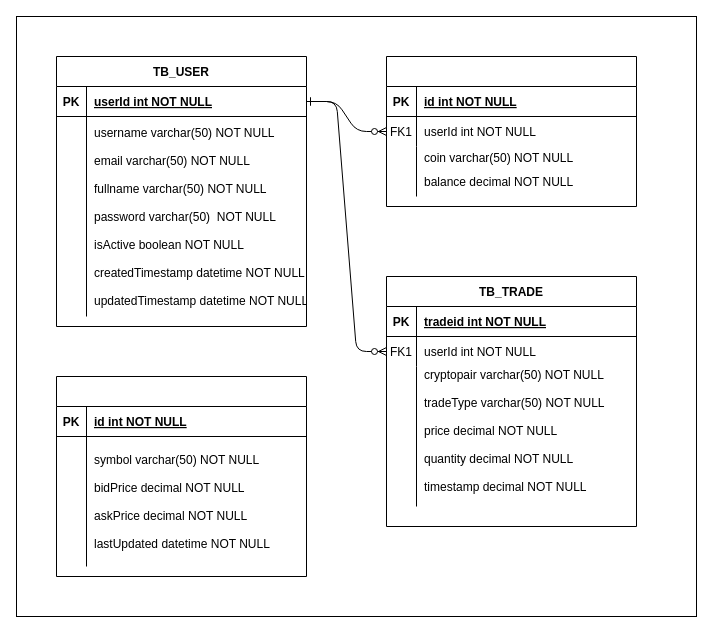
This 713x633 diagram has some shape labels left out. The box of each missing label's shape, as (x1, y1, x2, y2) in pixels:
TB_BALANCE: (386, 56, 636, 206)
TB_CRYPTO_PRICE: (56, 376, 306, 576)
